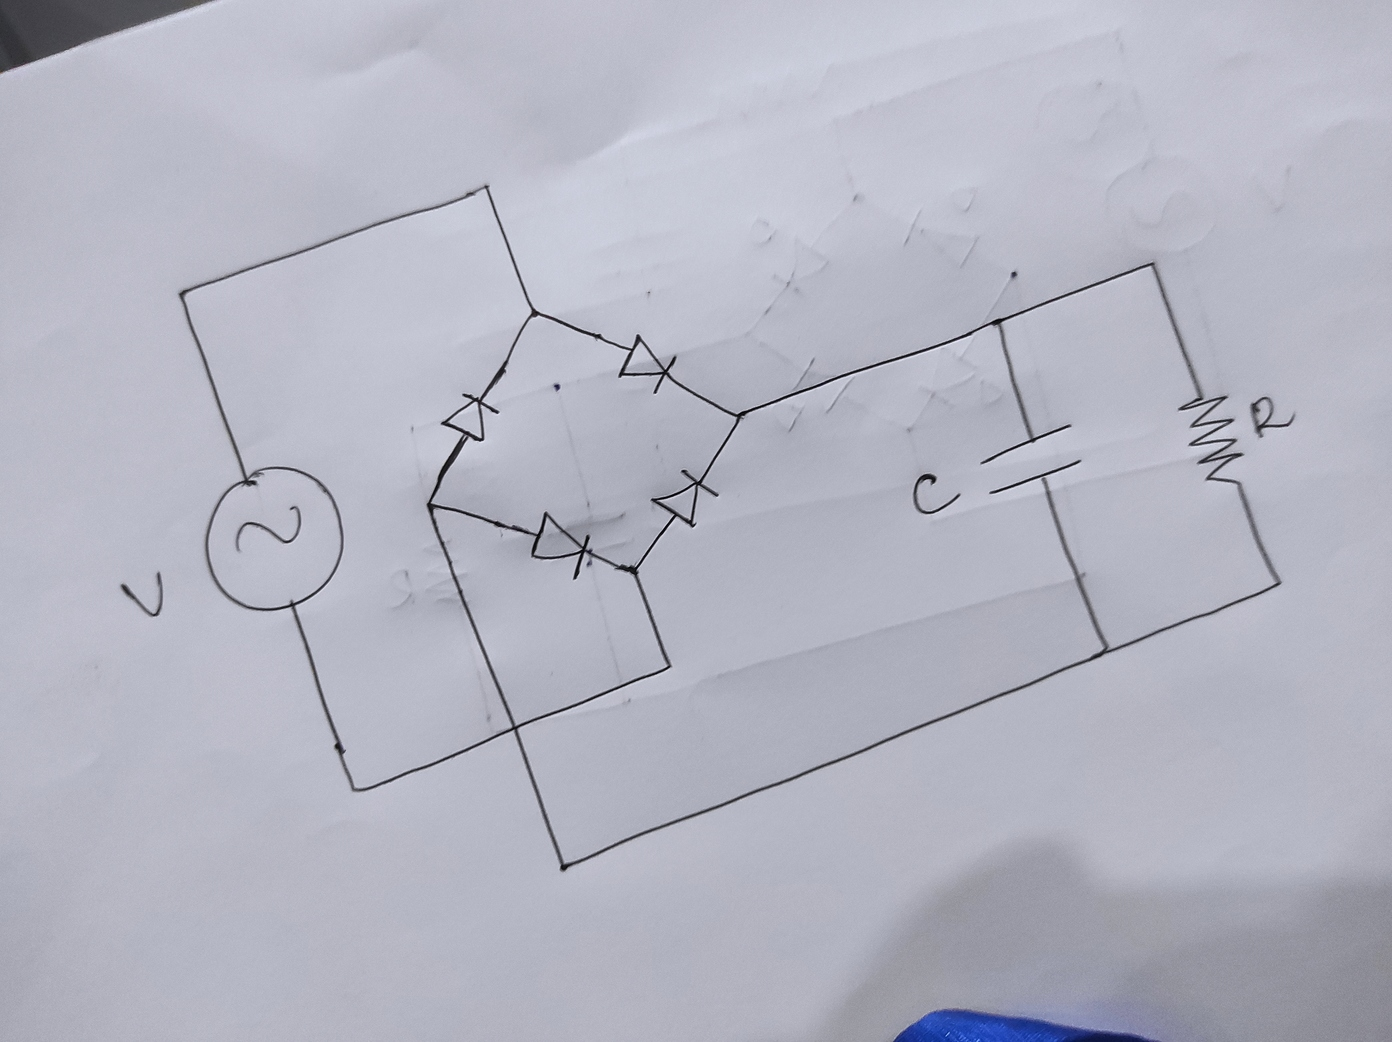capacitor.unpolarized: (978, 420, 1084, 497)
crossover: (495, 713, 530, 742)
diode: (527, 508, 594, 582), (648, 467, 721, 529), (615, 329, 681, 397), (436, 387, 500, 447)
junction: (1090, 638, 1121, 663), (343, 776, 371, 801), (552, 853, 576, 880), (521, 301, 545, 328), (419, 493, 444, 518), (619, 557, 645, 580), (1140, 253, 1163, 276), (728, 405, 750, 427), (1266, 571, 1289, 591), (987, 313, 1010, 331), (476, 180, 496, 199), (174, 285, 193, 304), (660, 658, 678, 674)
resistor: (1176, 387, 1248, 490)
text: (910, 468, 962, 516), (120, 569, 166, 620), (1248, 394, 1298, 439)
voltage.dc_ac: (196, 463, 349, 613)
